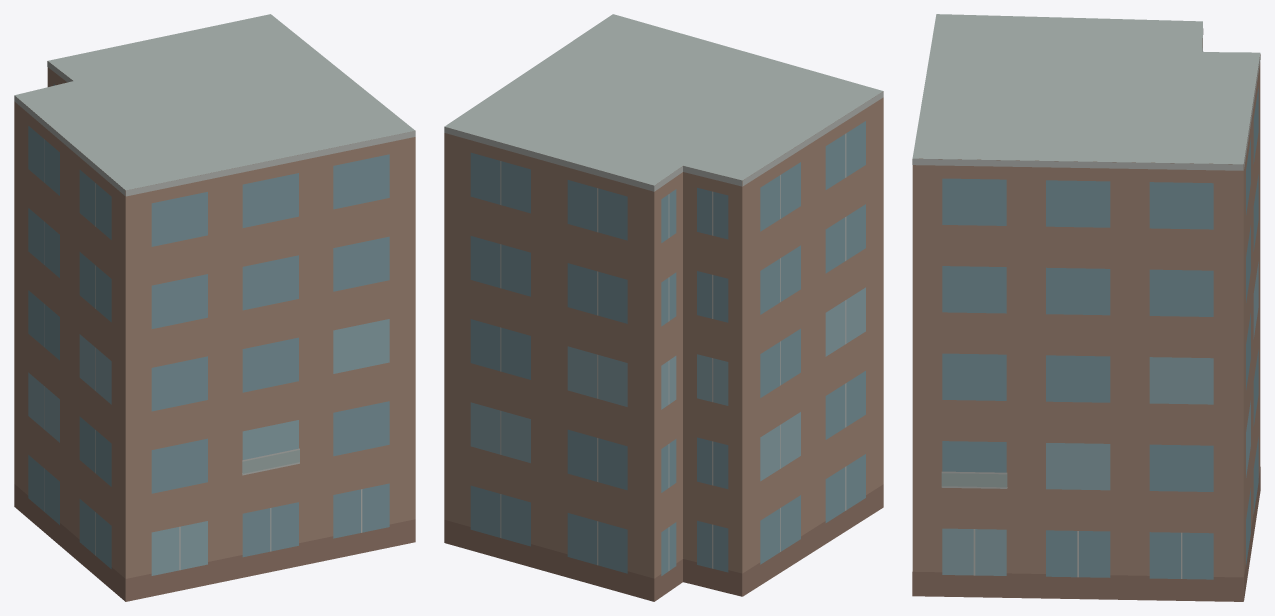
The model's file is survey-upis-32852716.glb.
3 renders of one model, left to right at view 1: azimuth 30°, elevation 25°; view 2: azimuth 150°, elevation 25°; view 3: azimuth 270°, elevation 25°, orthographic. The views are drawn at different scales.
Parts seen in each view (by area): view 1: survey-upis-32852716.tmp; view 2: survey-upis-32852716.tmp; view 3: survey-upis-32852716.tmp.
Boxes of the visible parts, <box> form: survey-upis-32852716.tmp: <box>14,14,415,601</box>; survey-upis-32852716.tmp: <box>444,14,883,601</box>; survey-upis-32852716.tmp: <box>912,14,1260,601</box>.
Bounding box in the file's own units: 12.13 × 16.45 × 11.87.
